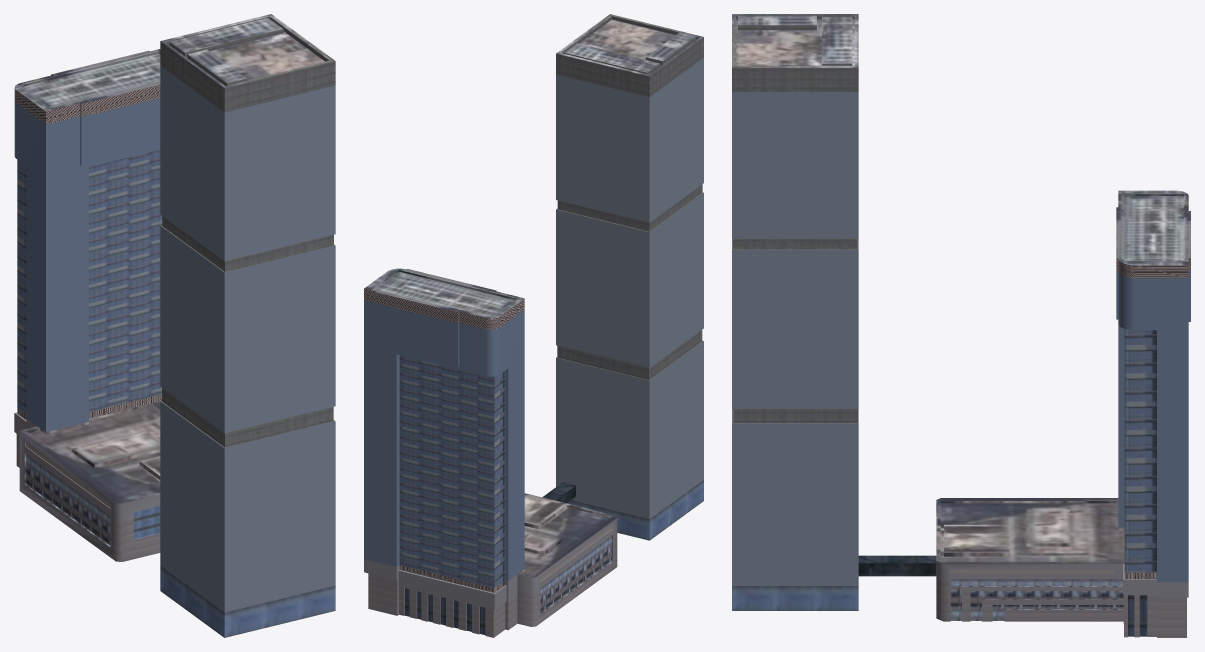
The model's file is rongchao_center_14bd6560.glb.
The picture shows the model from 3 angles, left to right: view 1: azimuth 30°, elevation 25°; view 2: azimuth 150°, elevation 25°; view 3: azimuth 270°, elevation 25°; orthographic projection. The views are drawn at different scales.
Parts seen in each view (by area): view 1: rongchao_center_14bd6560; view 2: rongchao_center_14bd6560; view 3: rongchao_center_14bd6560.
Part boxes in pixels (x1,y1,x2,y2): rongchao_center_14bd6560: (14,14,335,637); rongchao_center_14bd6560: (364,14,703,637); rongchao_center_14bd6560: (732,14,1190,637).
Size of the model in its own units: 64.08 by 193 by 148.
1 material, 1 textured.
